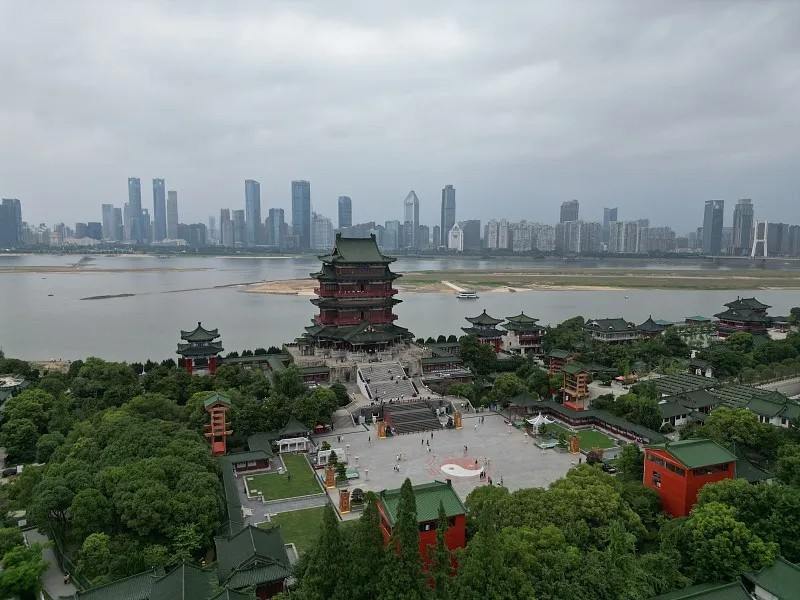Teng: (294, 233, 415, 353)
